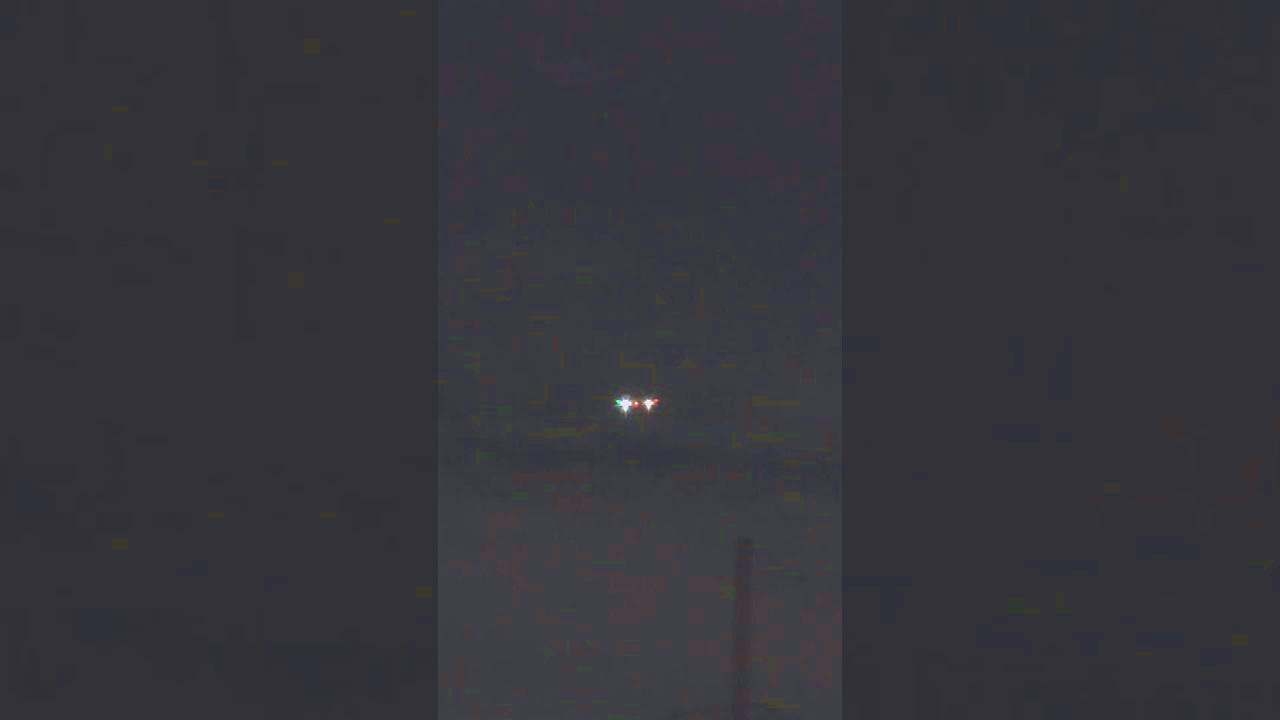Plane: (578, 378, 690, 431)
